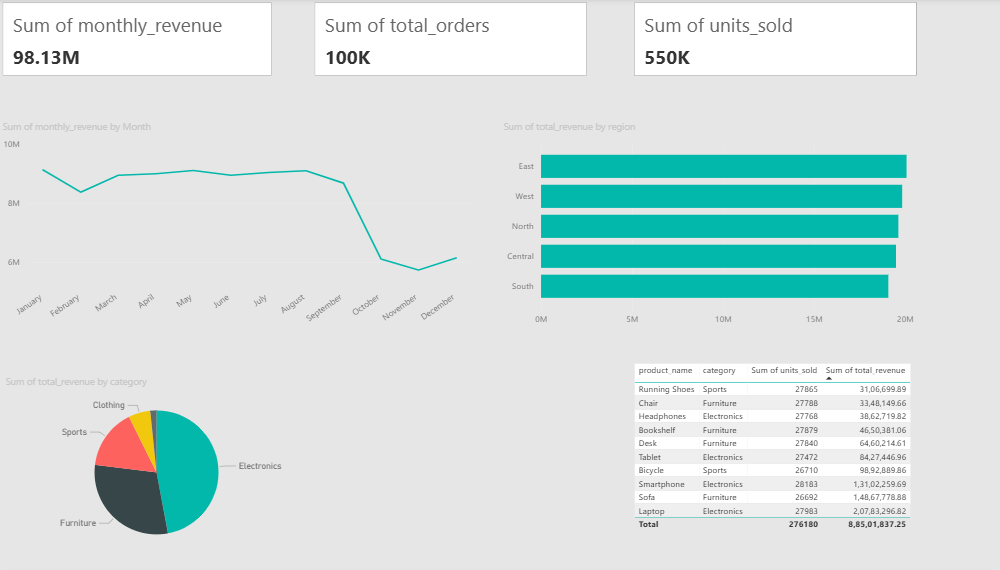

This screenshot's page, from the dashboard's own definition file:
{"tool":"powerbi","page":{"name":"Page 1","canvas":[1280,720],"ordinal":0},"visuals":[{"type":"cardVisual","fields":{"Data":["Sum(monthly_revenue.monthly_revenue)"]},"box":[9.4,0,349.6,103.9],"z":0},{"type":"cardVisual","fields":{"Data":["Sum(monthly_revenue.total_orders)"]},"box":[402.5,0,353.4,103.9],"z":1},{"type":"cardVisual","fields":{"Data":["Sum(revenue_by_category.units_sold)"]},"box":[805,0,366.6,103.9],"z":2},{"type":"lineChart","fields":{"Y":["Sum(monthly_revenue.monthly_revenue)"],"Category":["monthly_revenue.month.Variation.Date Hierarchy.Month"]},"box":[10,152.5,600,267.5],"z":3},{"type":"clusteredBarChart","fields":{"Category":["revenue_by_region.region"],"Y":["Sum(revenue_by_region.total_revenue)"]},"box":[640,152.5,572.5,267.5],"z":4},{"type":"pieChart","fields":{"Category":["revenue_by_category.category"],"Y":["Sum(revenue_by_category.total_revenue)"]},"box":[12.5,475,390,230],"z":5},{"type":"tableEx","fields":{"Values":["top_products.product_name","top_products.category","Sum(top_products.units_sold)","Sum(top_products.total_revenue)"]},"box":[805,455,437.5,250],"z":6}]}

Visuals, with their boxes in screenshot pixels (x1, y1, x2, y2), scaled from the page's 1280x720 canvas onto the 1000x570 screenshot:
cardVisual - Sum(monthly_revenue.monthly_revenue): 7 0 280 82
cardVisual - Sum(monthly_revenue.total_orders): 314 0 591 82
cardVisual - Sum(revenue_by_category.units_sold): 629 0 915 82
lineChart - Sum(monthly_revenue.monthly_revenue) x monthly_revenue.month.Variation.Date Hierarchy.Month: 8 121 477 332
clusteredBarChart - revenue_by_region.region x Sum(revenue_by_region.total_revenue): 500 121 947 332
pieChart - revenue_by_category.category x Sum(revenue_by_category.total_revenue): 10 376 314 558
tableEx - top_products.product_name x top_products.category: 629 360 971 558
